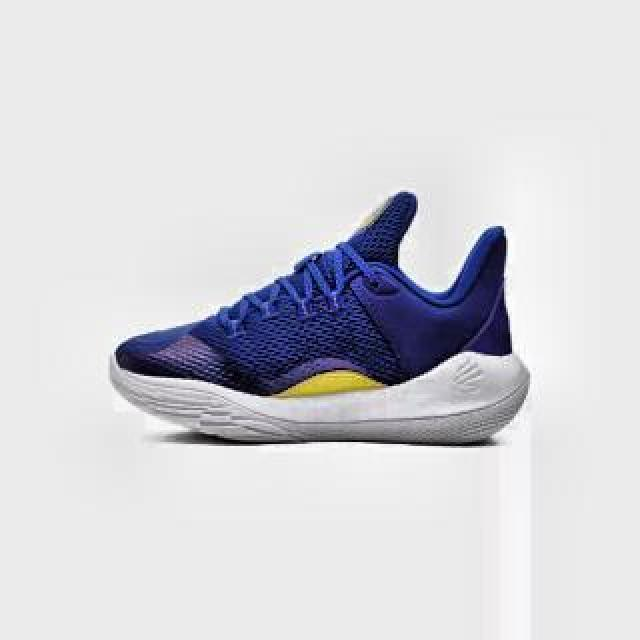shoes: (108, 190, 530, 442)
